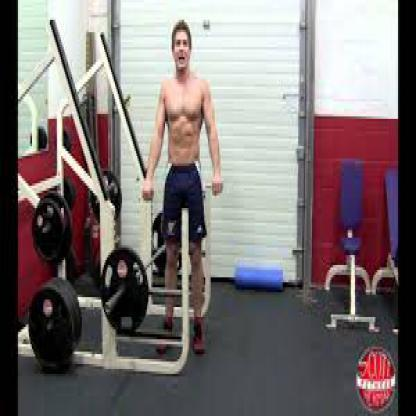barbell: (102, 210, 166, 336)
